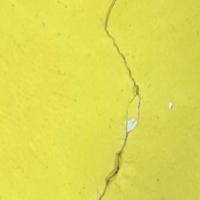crack: (80, 0, 148, 199)
